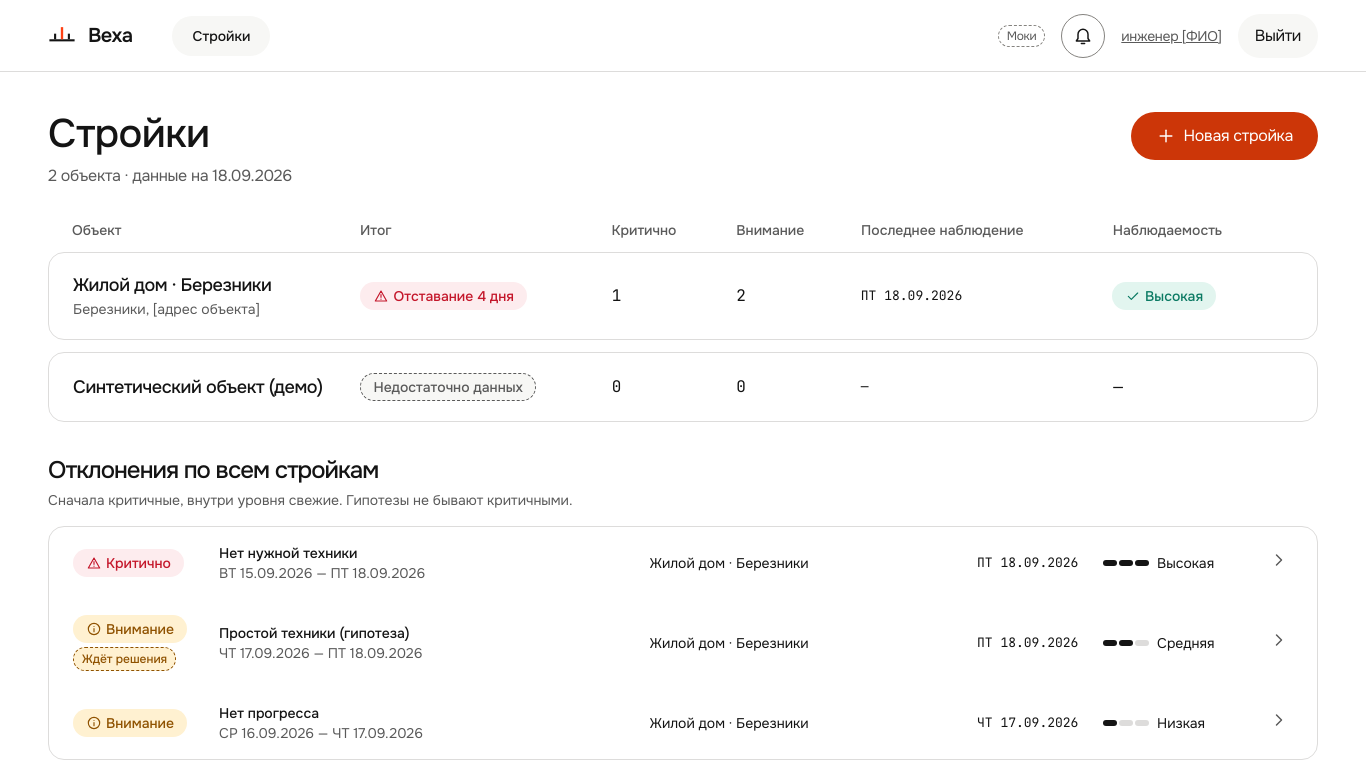
Test: LandingPage › opens the landing from the app logo on the sites page
Click the link "Веха" at point(90, 36), box x1=48 y1=22 x2=132 y2=50
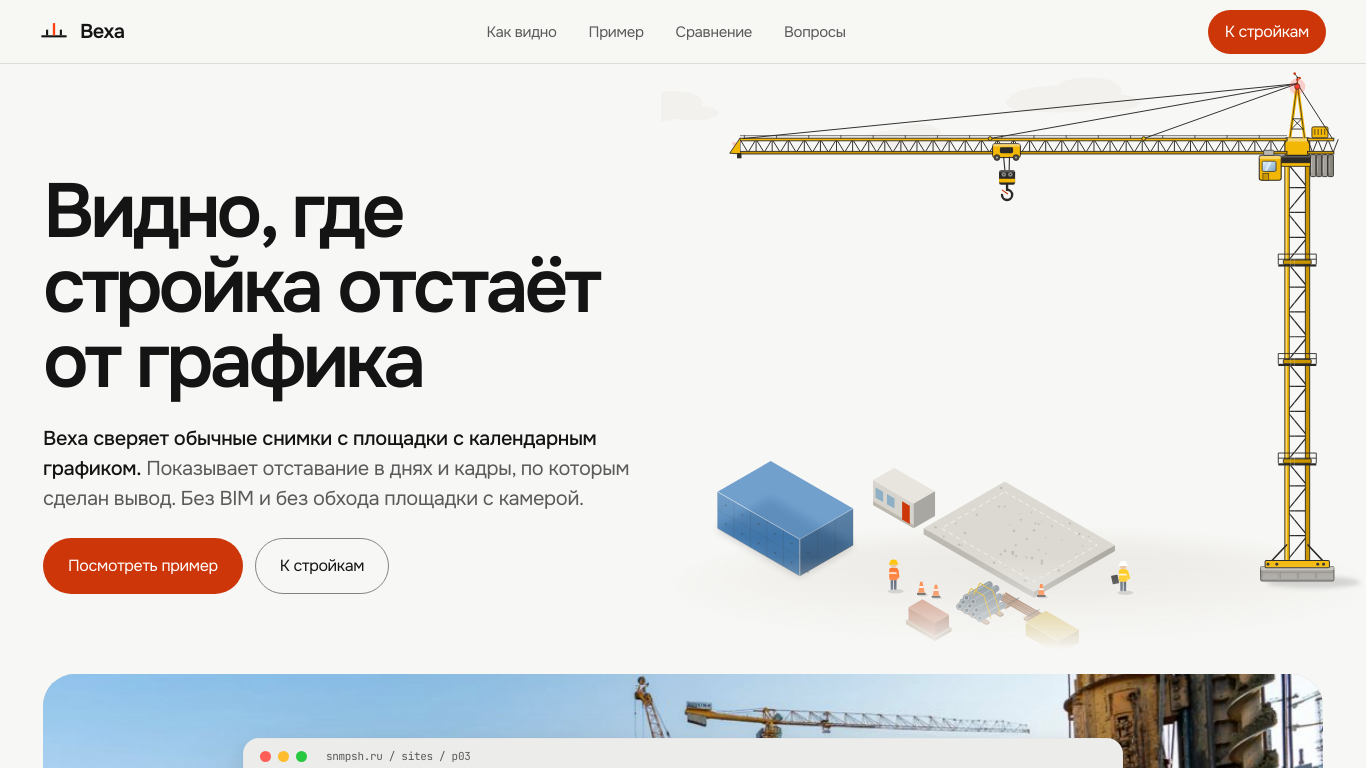
Expected: the heading "Видно, где стройка отстаёт от графика" is shown, x1=43 y1=175 x2=600 y2=400
